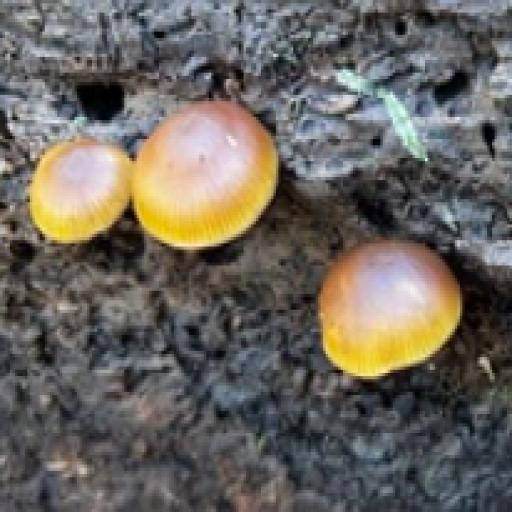Funeral Bell: (33, 96, 280, 271), (310, 231, 468, 385)
